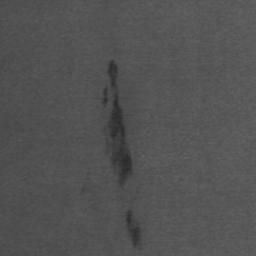Iron scale compression: (107, 60, 134, 189), (128, 211, 140, 250), (103, 87, 108, 109)
